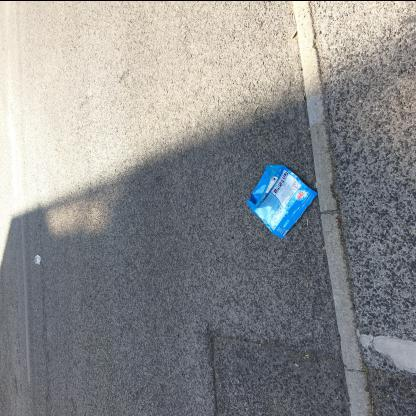plastik: (246, 163, 318, 238), (34, 254, 41, 264)
